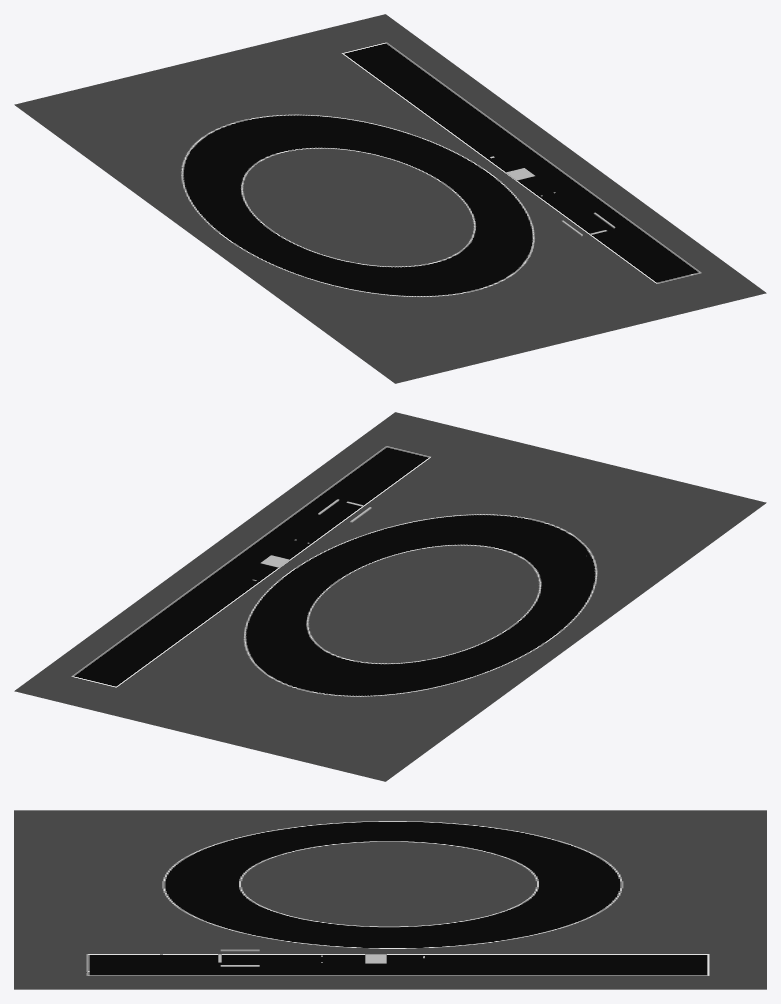
The model's file is track_template.fbx.
3 renders of one model, top to bottom at view 1: azimuth 30°, elevation 25°; view 2: azimuth 150°, elevation 25°; view 3: azimuth 270°, elevation 25°, orthographic.
Parts seen in each view (by area): view 1: track; view 2: track; view 3: track.
Part boxes in pixels (x1,y1,x2,y2): track: (14, 14, 766, 383); track: (14, 412, 766, 781); track: (14, 810, 766, 989).
Size of what is drawn, in the model's own units: 10000 by 65.65 by 17770.
